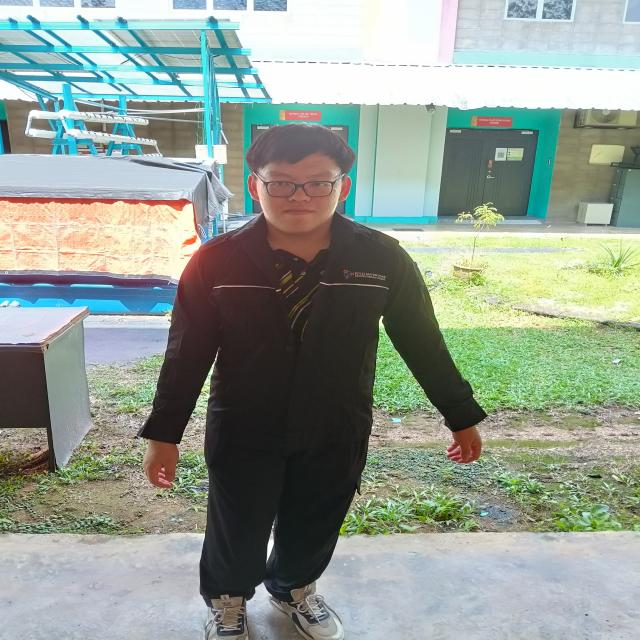person_with_labcoat: (139, 123, 486, 640)
